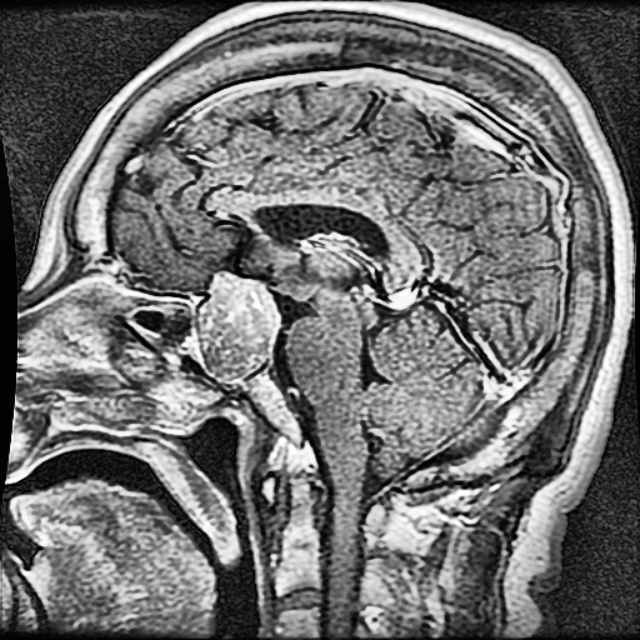Pituitary: (203, 272, 277, 375)
